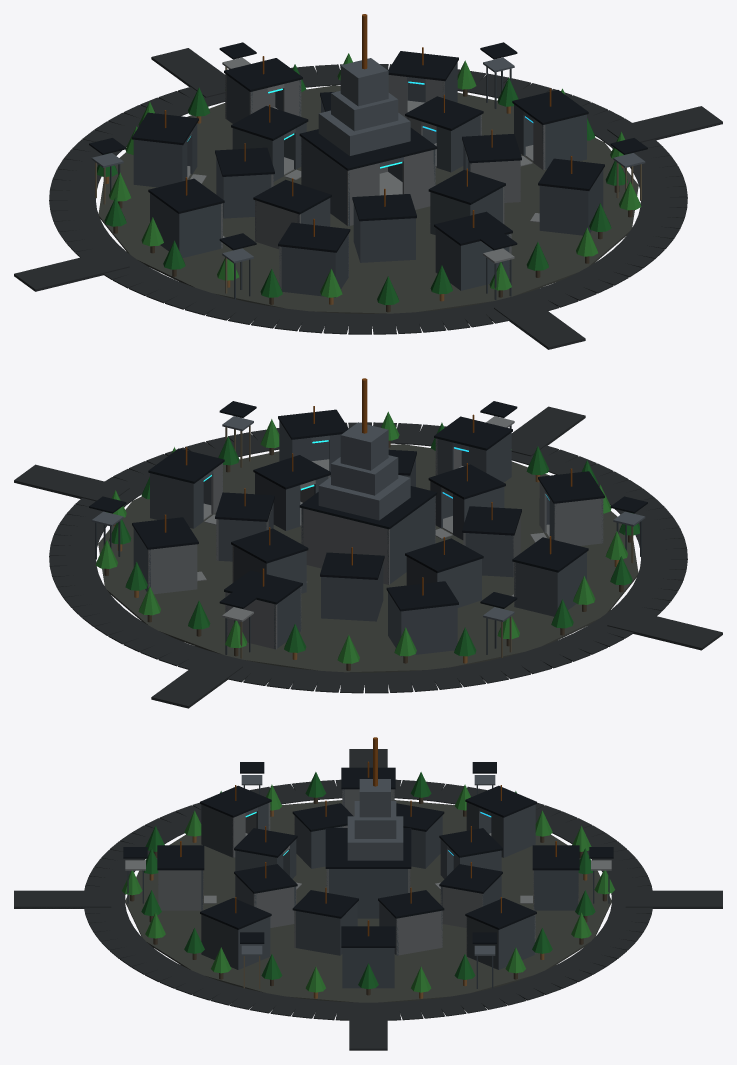
The model's file is ExodusCity.glb.
3 views of the same model, one above another, from view 1: azimuth 30°, elevation 25°; view 2: azimuth 150°, elevation 25°; view 3: azimuth 270°, elevation 25° (orthographic). The views are drawn at different scales.
Parts seen in each view (by area): view 1: Bridge0, Central_Header, Central_Roof, Central_Floor, Tree0, Tree1, Central_Antenna, TTr1; view 2: Bridge0, Central_Header, Central_Roof, Central_Floor, Tree1, Tree0, Central_Antenna, TTr1; view 3: Bridge0, Central_Header, Central_Roof, Central_Floor, Tree1, Tree0, Central_Antenna.
Part boxes in pixels (<box>): Bridge0: <box>14,48,722,349</box>; Central_Header: <box>91,57,645,345</box>; Central_Roof: <box>89,42,647,252</box>; Central_Floor: <box>187,57,545,289</box>; Tree0: <box>97,64,627,305</box>; Tree1: <box>109,53,641,297</box>; Central_Antenna: <box>164,14,572,236</box>; TTr1: <box>95,66,641,304</box>; Bridge0: <box>14,406,722,708</box>; Central_Header: <box>91,416,645,670</box>; Central_Roof: <box>89,401,647,611</box>; Central_Floor: <box>148,416,603,649</box>; Tree1: <box>95,411,627,663</box>; Tree0: <box>109,422,639,656</box>; Central_Antenna: <box>164,378,572,595</box>; TTr1: <box>113,425,633,663</box>; Bridge0: <box>14,749,722,1050</box>; Central_Header: <box>21,775,609,995</box>; Central_Roof: <box>123,762,613,947</box>; Central_Floor: <box>125,789,611,956</box>; Tree1: <box>122,784,614,992</box>; Tree0: <box>141,772,595,989</box>; Central_Antenna: <box>180,737,556,936</box>.
Size of the model in its own units: 102 by 26.03 by 102.
